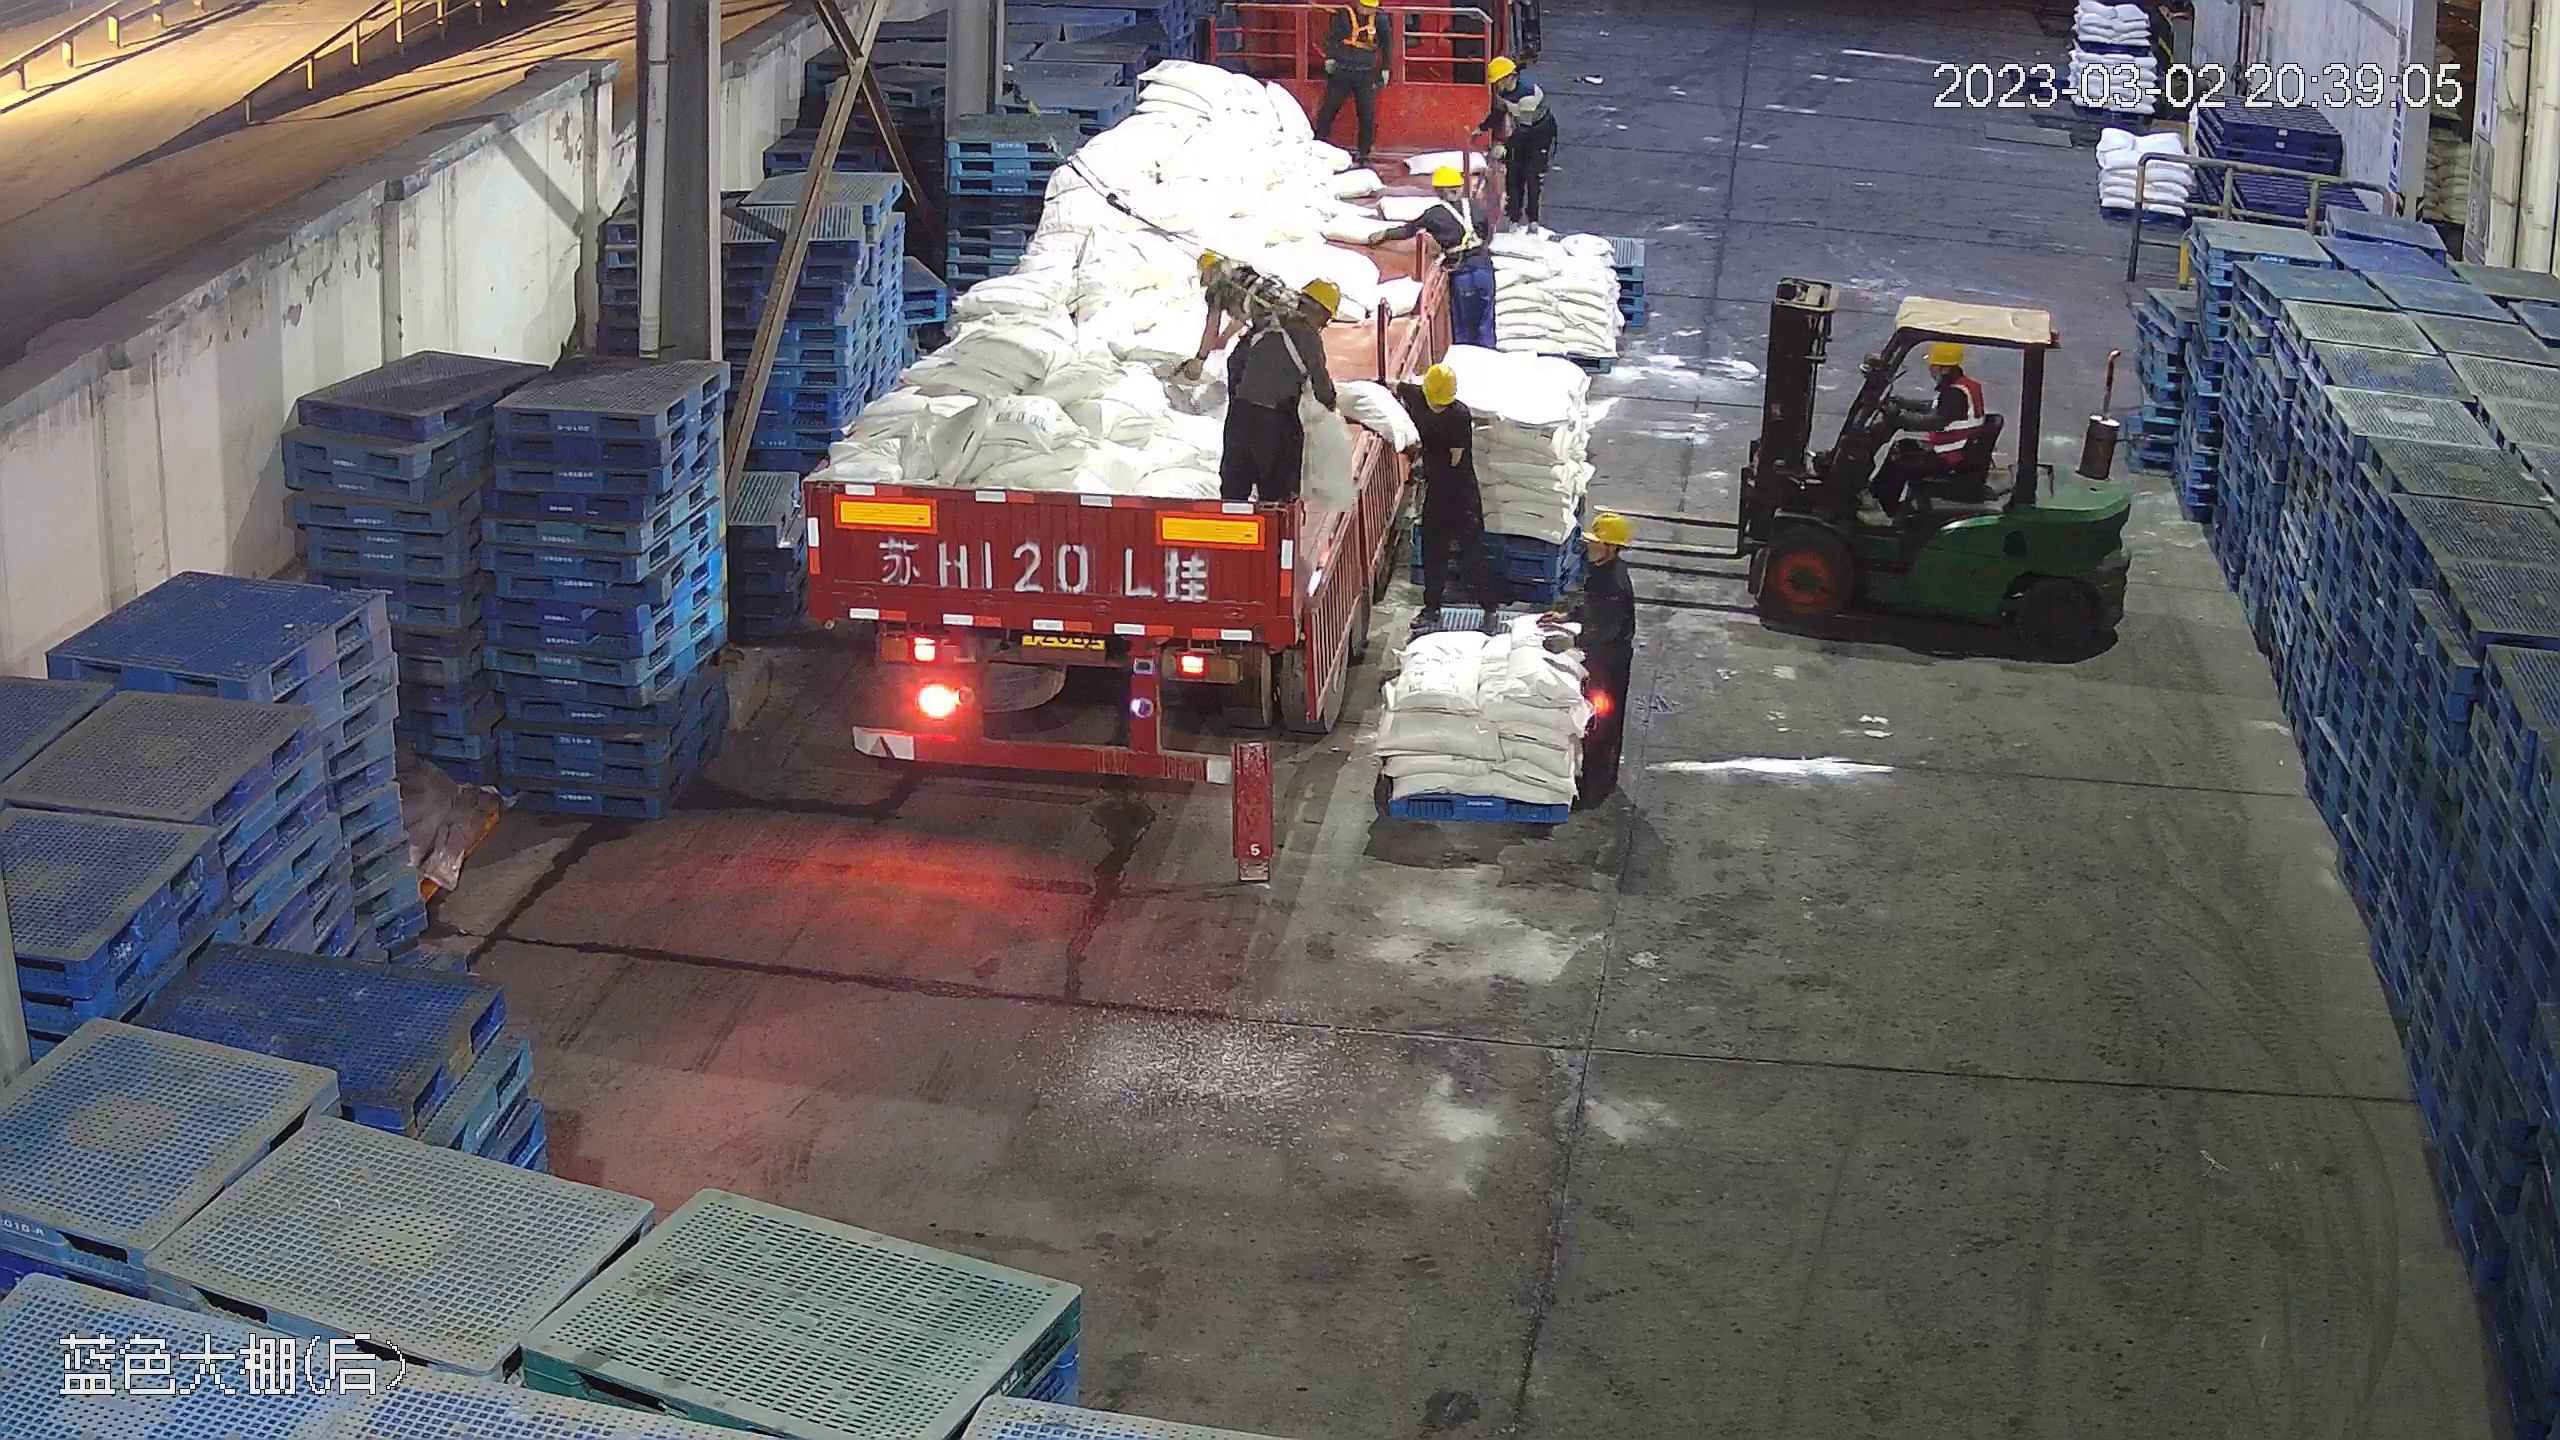belt: (1231, 307, 1315, 395), (1219, 269, 1277, 321), (1437, 194, 1489, 249), (1334, 4, 1381, 52)
head: (1247, 277, 1347, 367), (1569, 506, 1637, 599), (1406, 363, 1475, 445), (1923, 337, 1986, 418), (1193, 250, 1265, 314), (1418, 160, 1482, 228), (1480, 54, 1543, 114)
helmet: (1295, 276, 1344, 321), (1416, 362, 1459, 407), (1585, 508, 1634, 543), (1193, 246, 1227, 279), (1921, 336, 1963, 363), (1424, 160, 1462, 184), (1483, 56, 1517, 83), (1359, 1, 1381, 8)
people: (1208, 272, 1344, 586), (1541, 505, 1639, 807), (1366, 159, 1497, 363), (1856, 334, 1988, 515), (1405, 362, 1478, 629), (1472, 54, 1555, 239), (1315, 1, 1398, 173)
truck: (792, 14, 1487, 784)
